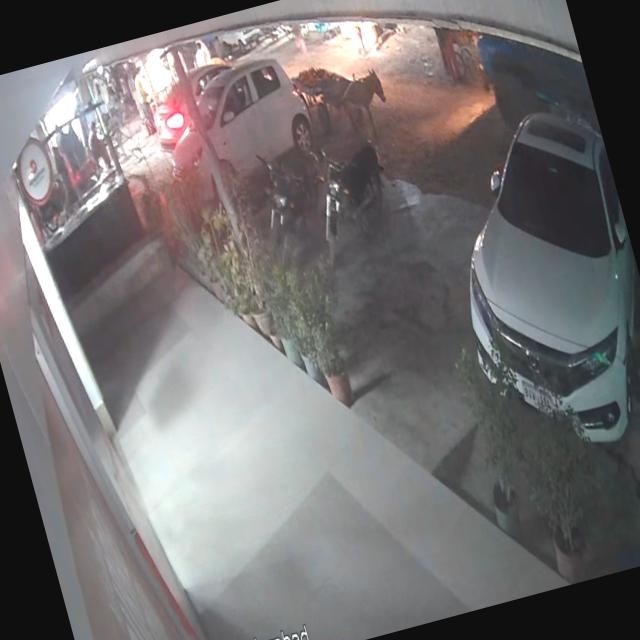Car: (414, 77, 640, 488), (150, 48, 344, 216)
Motorcycle: (300, 120, 410, 272), (236, 128, 338, 262)
